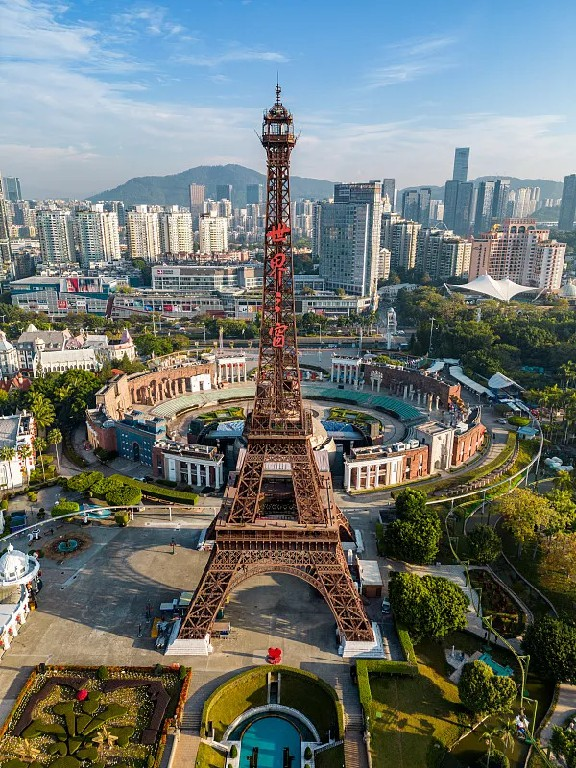Eiffel: (164, 68, 383, 658)
